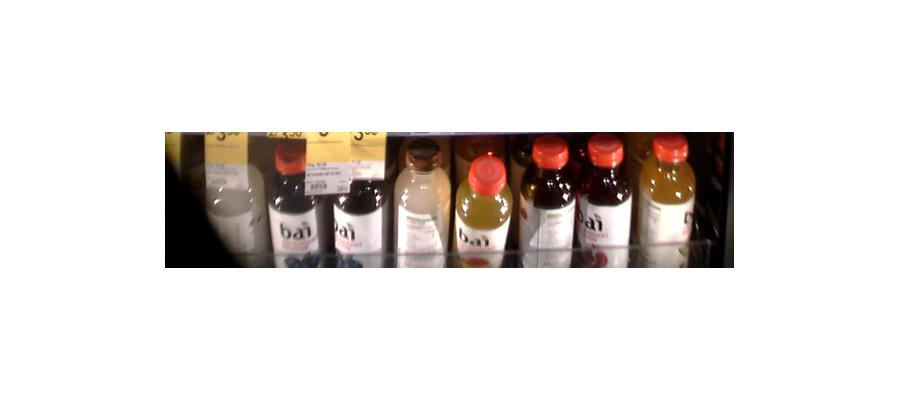bottle: (262, 135, 329, 264), (515, 143, 576, 271), (637, 137, 695, 270), (330, 147, 393, 267), (579, 137, 635, 270), (451, 156, 514, 272), (207, 139, 268, 257), (391, 146, 449, 270)
